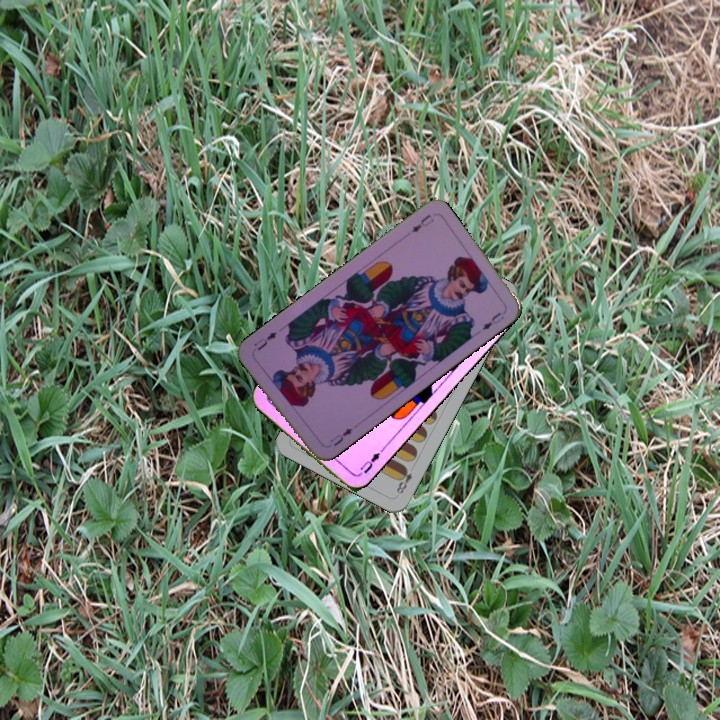E8: (392, 463, 415, 498)
EU: (354, 446, 386, 478), (326, 424, 355, 449), (407, 210, 436, 235)
